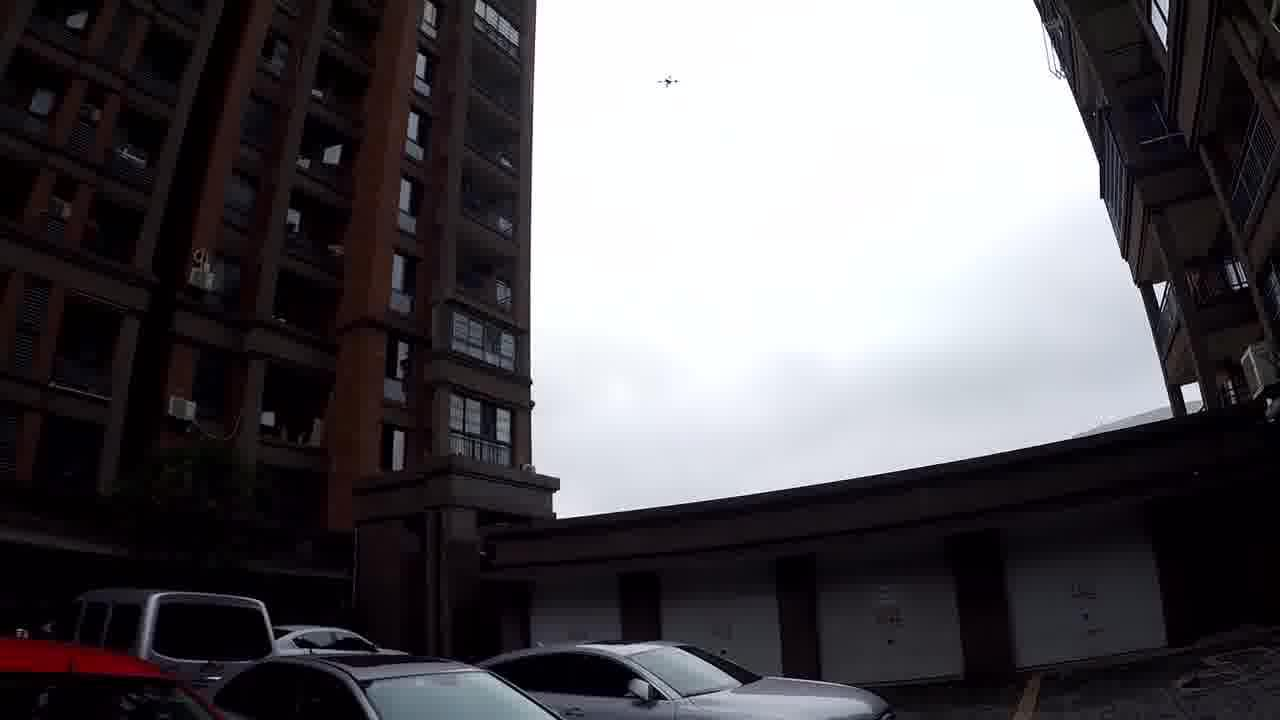drone: (633, 50, 690, 95)
